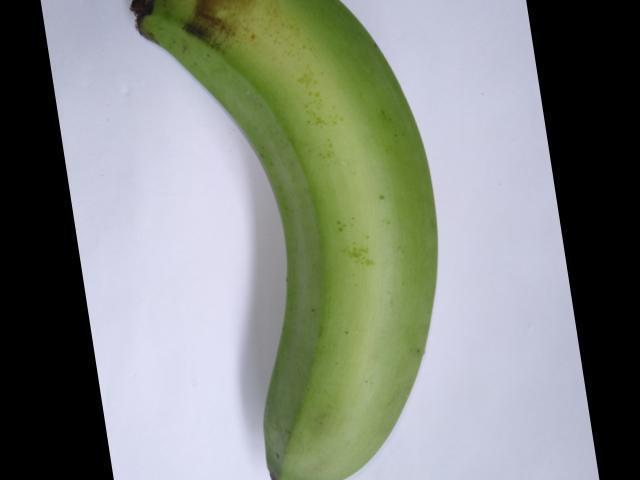freshunripe: (117, 0, 468, 478)
